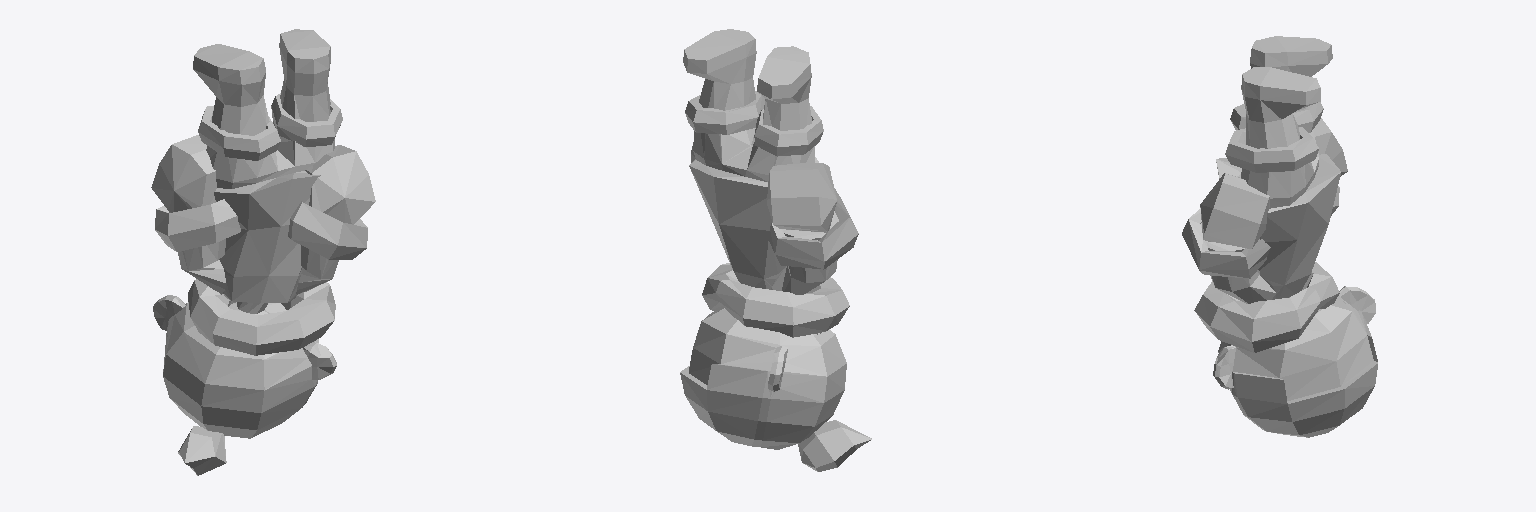
Rendered from eikastanding_000039.obj.
3 views of the same model, side by side, from view 1: azimuth 30°, elevation 25°; view 2: azimuth 150°, elevation 25°; view 3: azimuth 270°, elevation 25° (orthographic).
Visible parts, largest first — view 1: Cylinder; view 2: Cylinder; view 3: Cylinder.
Boxes of the visible parts, x1,y1,x2,y2 form: Cylinder: [151, 29, 375, 475]; Cylinder: [680, 29, 871, 471]; Cylinder: [1182, 36, 1377, 437].
Size of the model in its own units: 25.49 by 55.26 by 24.3.